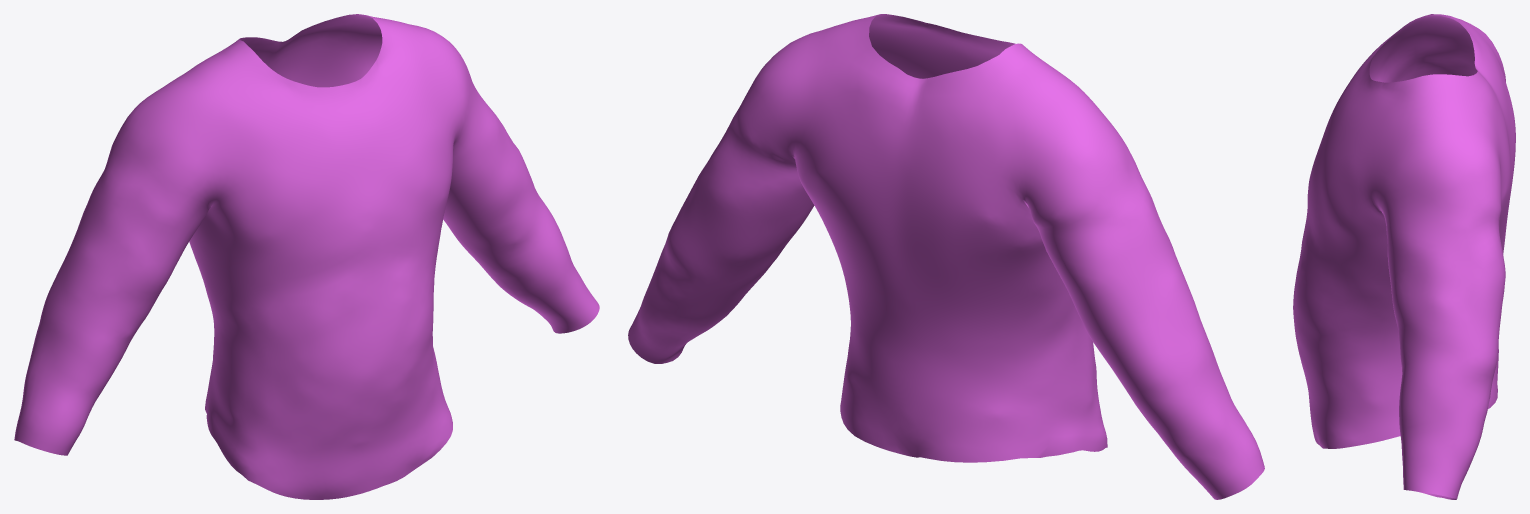
Rendered from Male-Large-Shirt.glb.
The picture shows the model from 3 angles, left to right: view 1: azimuth 30°, elevation 25°; view 2: azimuth 150°, elevation 25°; view 3: azimuth 270°, elevation 25°; orthographic projection. The views are drawn at different scales.
Parts seen in each view (by area): view 1: Group1.002; view 2: Group1.002; view 3: Group1.002.
Boxes of the visible parts, x1=… form: Group1.002: x1=14, y1=14, x2=599, y2=499; Group1.002: x1=628, y1=14, x2=1264, y2=499; Group1.002: x1=1293, y1=14, x2=1515, y2=499.
Bounding box in the file's own units: 1.86 × 1.28 × 0.6617.
